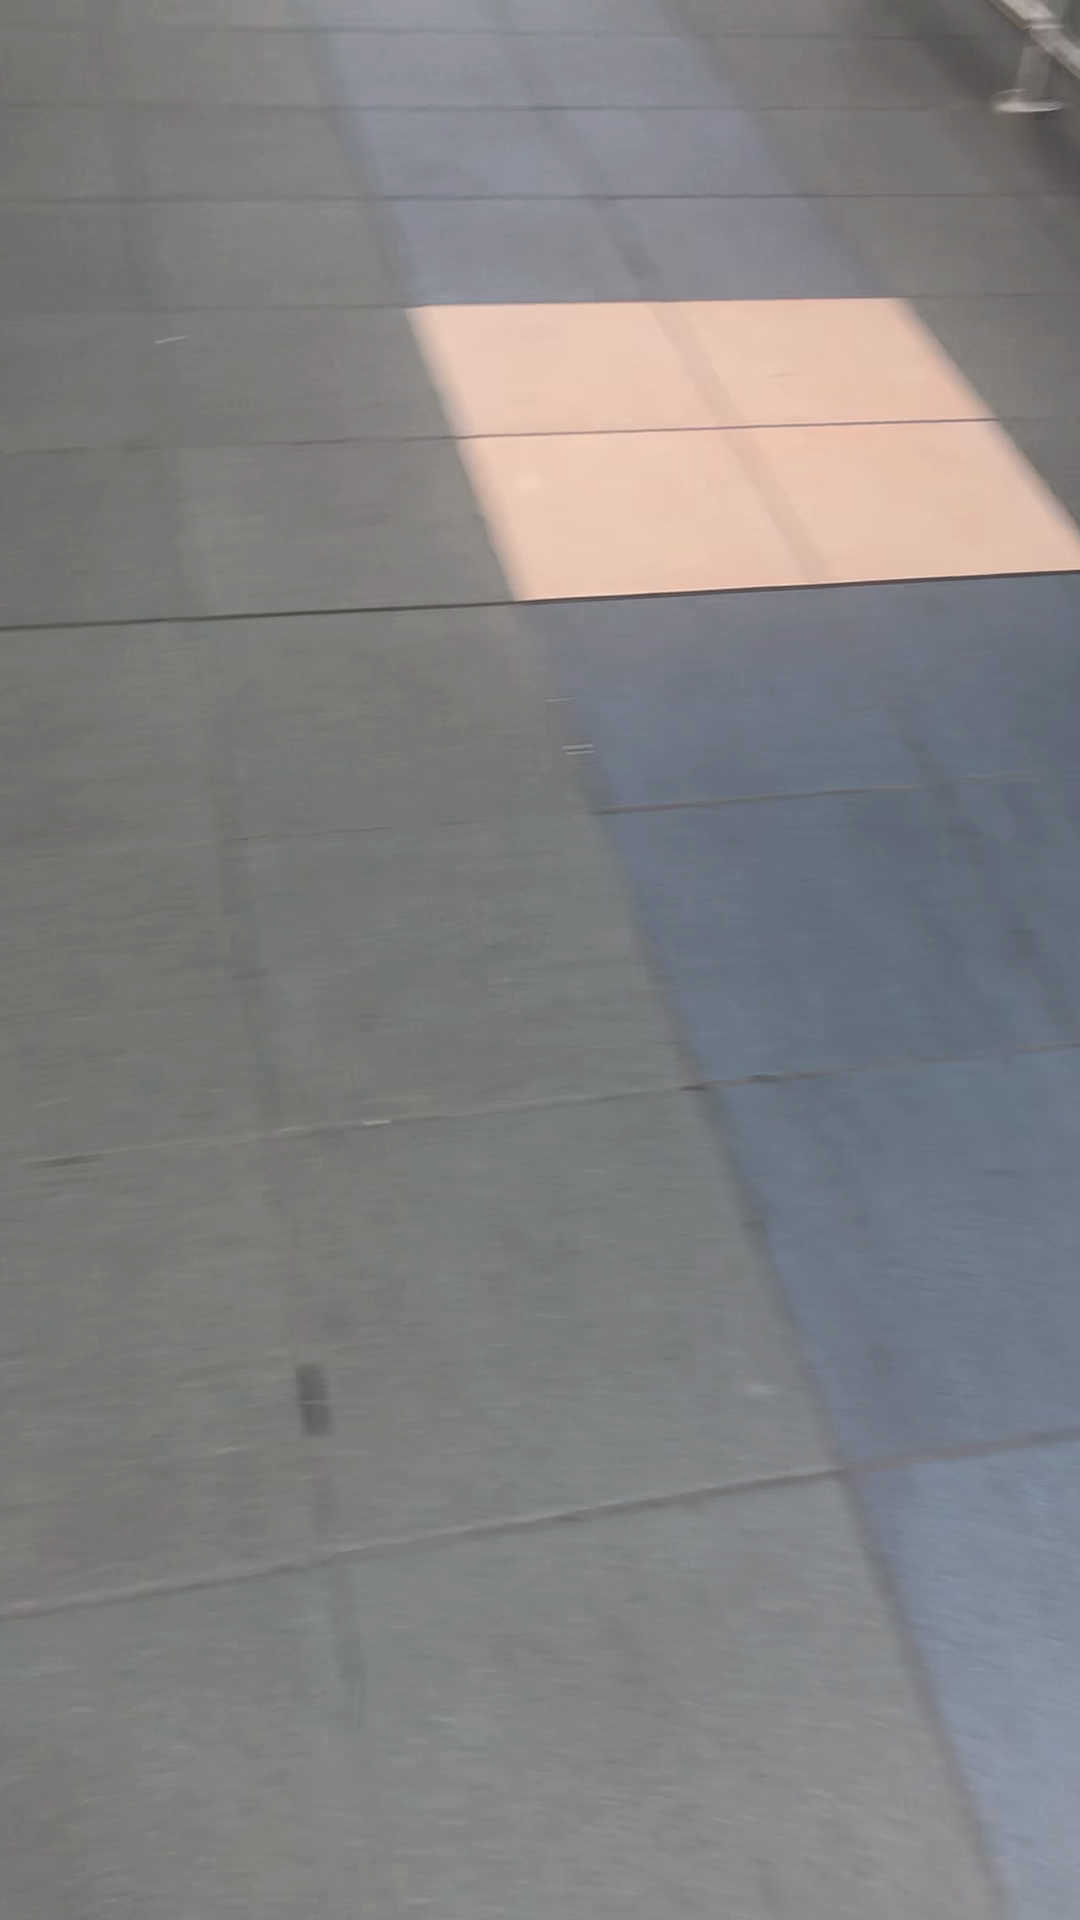Stain: (280, 1332, 365, 1462)
